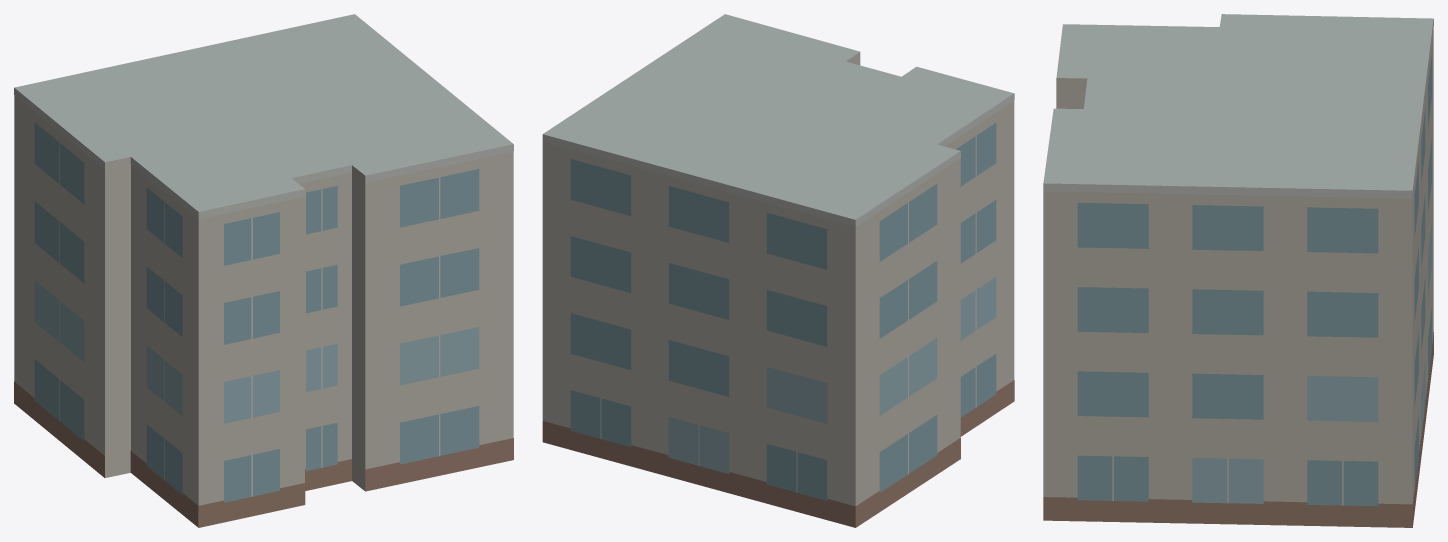
The model's file is survey-upis-32659241.glb.
The picture shows the model from 3 angles, left to right: view 1: azimuth 30°, elevation 25°; view 2: azimuth 150°, elevation 25°; view 3: azimuth 270°, elevation 25°; orthographic projection. The views are drawn at different scales.
Parts seen in each view (by area): view 1: survey-upis-32659241.tmp; view 2: survey-upis-32659241.tmp; view 3: survey-upis-32659241.tmp.
Boxes of the visible parts, x1,y1,x2,y2 form: survey-upis-32659241.tmp: (14, 14, 513, 527); survey-upis-32659241.tmp: (542, 14, 1014, 527); survey-upis-32659241.tmp: (1043, 14, 1433, 527).
Bounding box in the file's own units: 11.87 × 10.55 × 11.08.
